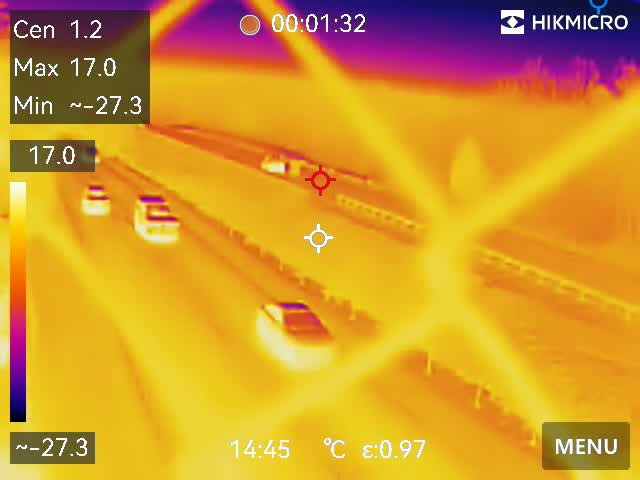largeCar: (133, 190, 181, 242)
smallCar: (251, 290, 341, 363)
vehicle: (79, 180, 112, 220), (259, 149, 303, 176)
